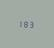eight: (24, 19, 28, 28)
one: (18, 19, 22, 27)
three: (29, 20, 33, 28)
